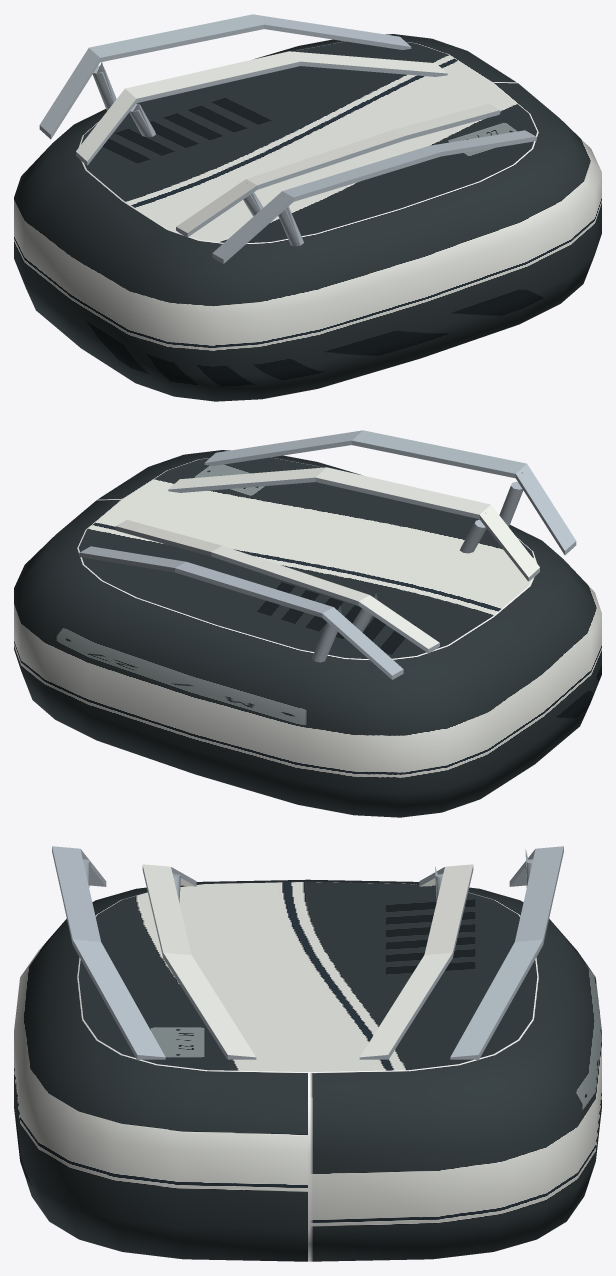
Rendered from MotorCowl_27_SSR_青鋼・白稜.glb.
3 views of the same model, one above another, from view 1: azimuth 30°, elevation 25°; view 2: azimuth 150°, elevation 25°; view 3: azimuth 270°, elevation 25° (orthographic). The views are drawn at different scales.
Visible parts, largest first — view 1: MotorCowl_27_SSR; view 2: MotorCowl_27_SSR; view 3: MotorCowl_27_SSR.
Part boxes in pixels (x1,y1,x2,y2): MotorCowl_27_SSR: (14, 14, 601, 401); MotorCowl_27_SSR: (14, 430, 601, 817); MotorCowl_27_SSR: (14, 846, 601, 1261).
Size of the model in its own units: 0.332 by 0.1424 by 0.286.
Materials: 2 (2 with a texture image).
